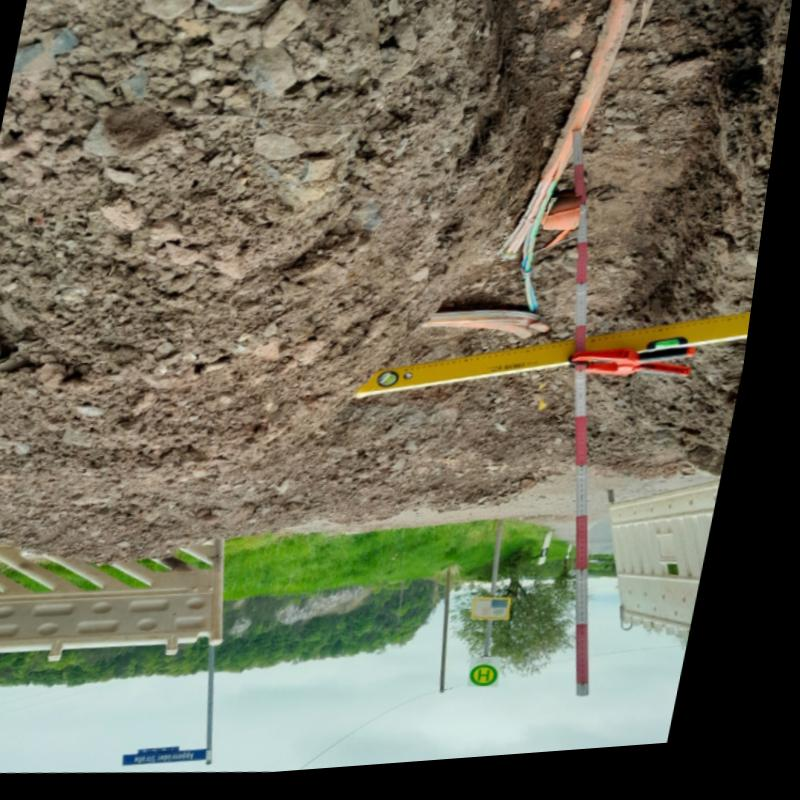Kugelmarker: (550, 205, 588, 239)
Orang-Speednetrohrchen: (507, 0, 644, 269)
